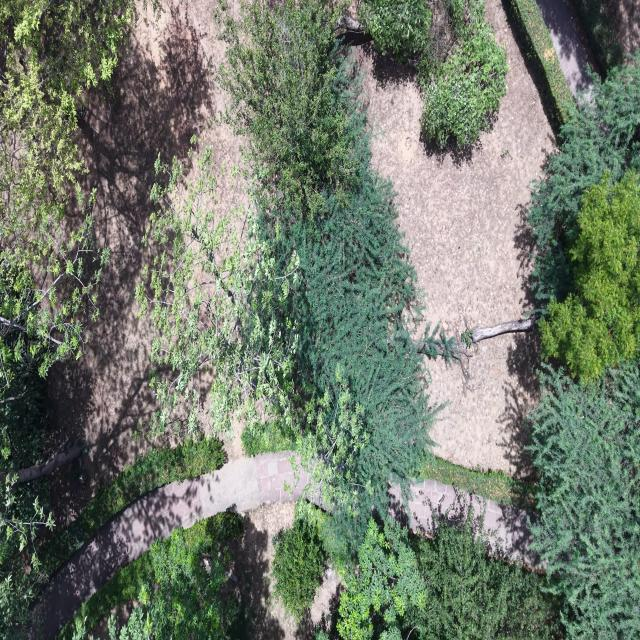DRY_AREA: (49, 0, 239, 523), (50, 0, 238, 509), (50, 0, 238, 507), (357, 0, 553, 335), (40, 451, 308, 639), (220, 501, 341, 639), (228, 501, 340, 639), (602, 0, 639, 52)
PATHWAYS: (32, 451, 306, 639), (32, 452, 306, 639)
VEGETATION_TREE: (0, 0, 639, 639), (136, 1, 437, 563), (136, 2, 436, 560), (232, 2, 433, 551), (138, 208, 433, 556), (0, 0, 136, 636), (0, 1, 134, 637), (528, 50, 639, 639), (0, 1, 131, 374), (0, 267, 98, 637), (529, 55, 639, 382), (217, 1, 364, 215), (530, 362, 639, 639), (336, 507, 559, 639), (336, 509, 558, 639), (337, 510, 555, 639), (528, 52, 639, 305), (39, 437, 225, 572), (57, 511, 242, 639), (358, 0, 506, 155), (539, 167, 639, 382), (398, 512, 555, 639), (0, 329, 54, 637), (69, 436, 225, 536), (0, 389, 53, 636), (418, 0, 507, 145), (139, 514, 240, 639), (337, 517, 425, 639), (502, 0, 575, 135), (56, 552, 152, 639), (419, 456, 534, 507), (271, 519, 326, 619), (358, 0, 431, 62), (573, 0, 623, 73), (294, 497, 328, 529)
